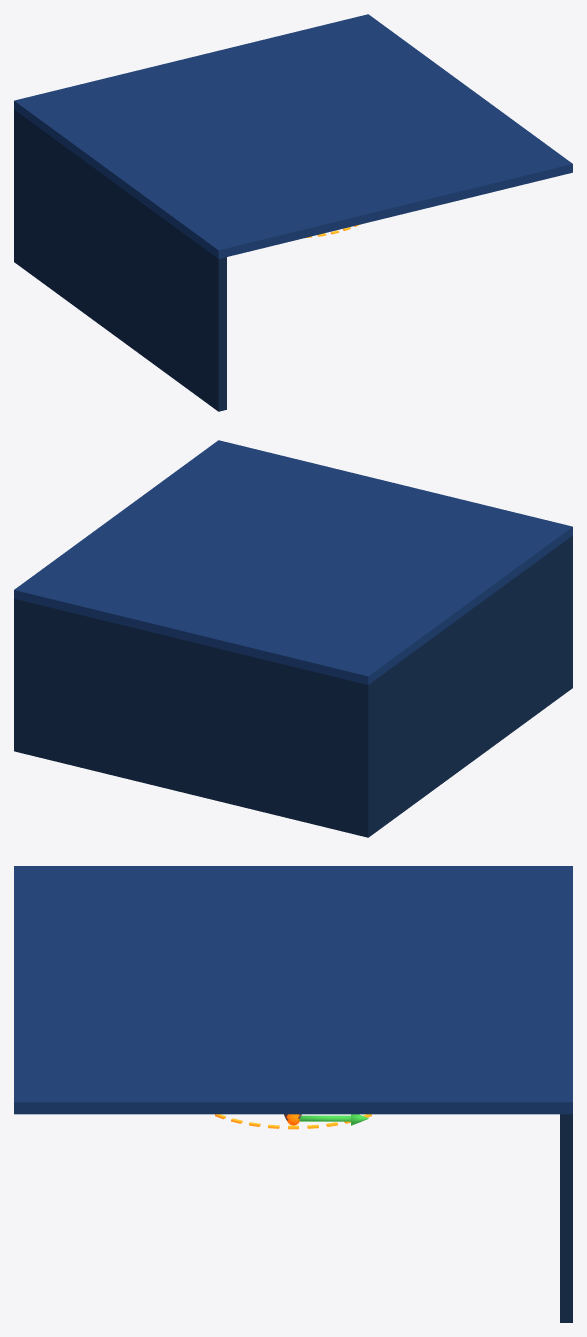
Rendered from bai5_chuyen_dong_tron_deu_quat.glb.
3 renders of one model, top to bottom at view 1: azimuth 30°, elevation 25°; view 2: azimuth 150°, elevation 25°; view 3: azimuth 270°, elevation 25°, orthographic. The views are drawn at different scales.
Parts seen in each view (by area): view 1: Ceiling_Slab, Wall_Left, Wall_Back; view 2: Ceiling_Slab, Wall_Back, Wall_Left; view 3: Ceiling_Slab, Wall_Back.
Part boxes in pixels (left/top/right/bottom): Ceiling_Slab: left=14, top=14, right=572, bottom=258; Wall_Left: left=18, top=113, right=226, bottom=411; Wall_Back: left=14, top=109, right=18, bottom=264; Ceiling_Slab: left=14, top=440, right=572, bottom=684; Wall_Back: left=14, top=598, right=373, bottom=837; Wall_Left: left=360, top=535, right=572, bottom=837; Ceiling_Slab: left=14, top=866, right=572, bottom=1114; Wall_Back: left=560, top=1114, right=572, bottom=1322.
Bounding box in the file's own units: 6.8 × 2.96 × 6.8.
